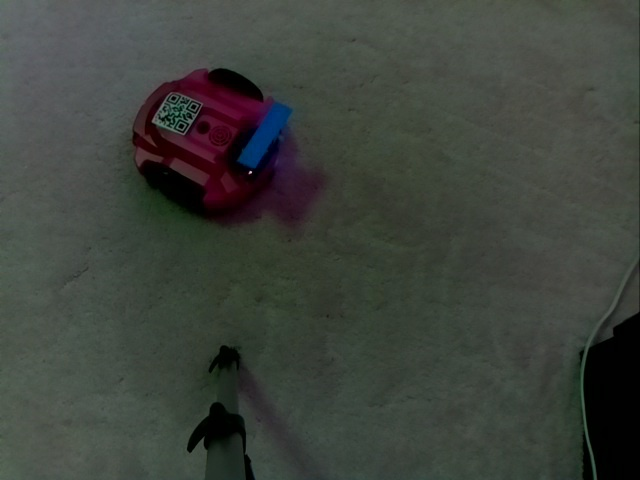board: (227, 87, 294, 184)
chassis: (127, 66, 290, 221)
